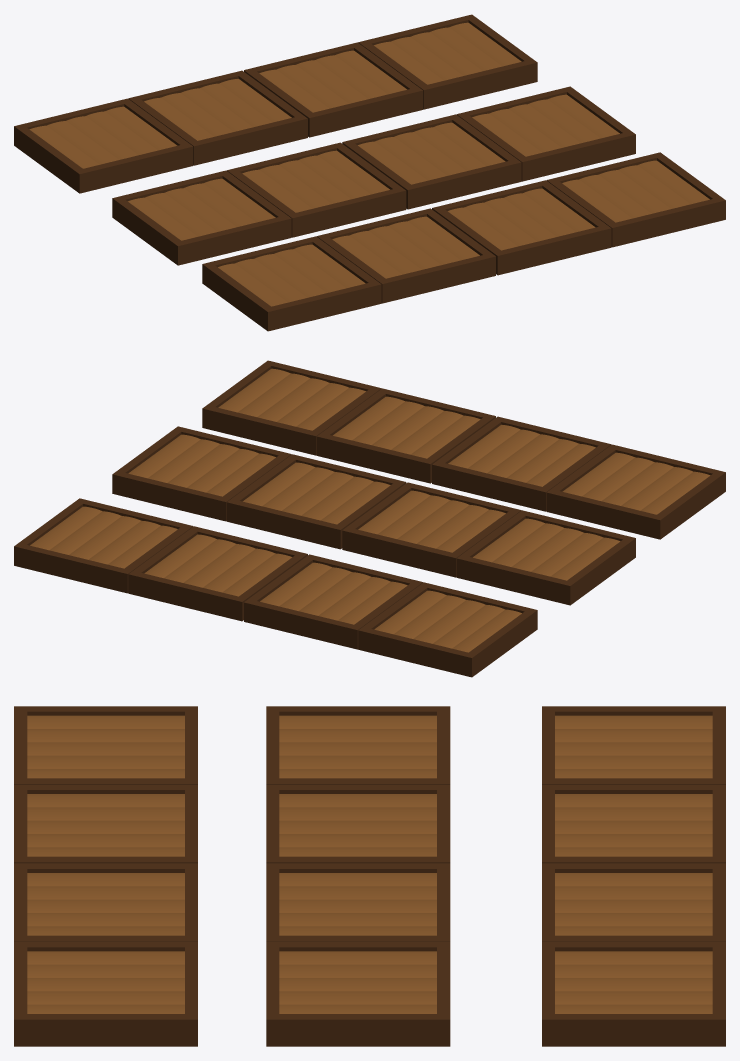
The model's file is FLOOR2.fbx.
3 renders of one model, top to bottom at view 1: azimuth 30°, elevation 25°; view 2: azimuth 150°, elevation 25°; view 3: azimuth 270°, elevation 25°, orthographic. The views are drawn at different scales.
Visible parts, largest first — view 1: Cube.080; view 2: Cube.080; view 3: Cube.080.
Part boxes in pixels (<box>): Cube.080: <box>14,14,725,331</box>; Cube.080: <box>14,360,725,677</box>; Cube.080: <box>14,706,725,1046</box>.
Bounding box in the file's own units: 2810 × 114 × 2698.
